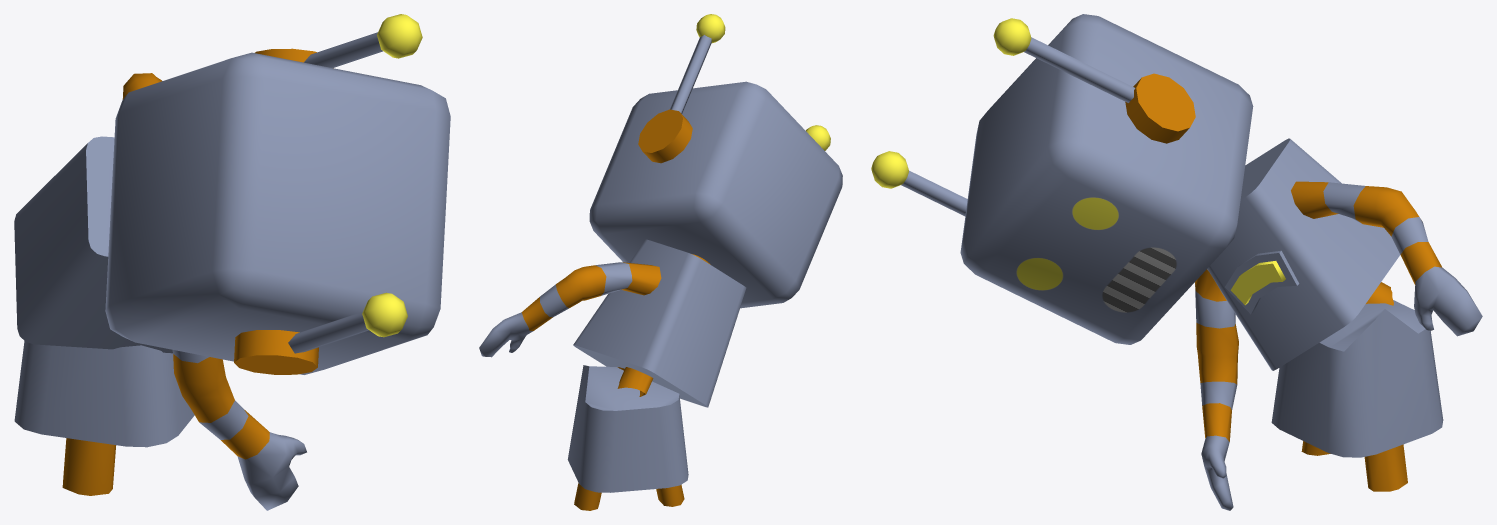
The model's file is robot.fbx.
The picture shows the model from 3 angles, left to right: view 1: azimuth 30°, elevation 25°; view 2: azimuth 150°, elevation 25°; view 3: azimuth 270°, elevation 25°; orthographic projection. The views are drawn at different scales.
Parts seen in each view (by area): view 1: robot; view 2: robot; view 3: robot.
Part boxes in pixels (x1,y1,x2,y2): robot: (14, 14, 450, 510); robot: (479, 14, 842, 510); robot: (871, 14, 1482, 510).
Bounding box in the file's own units: 114 × 220 × 249.
